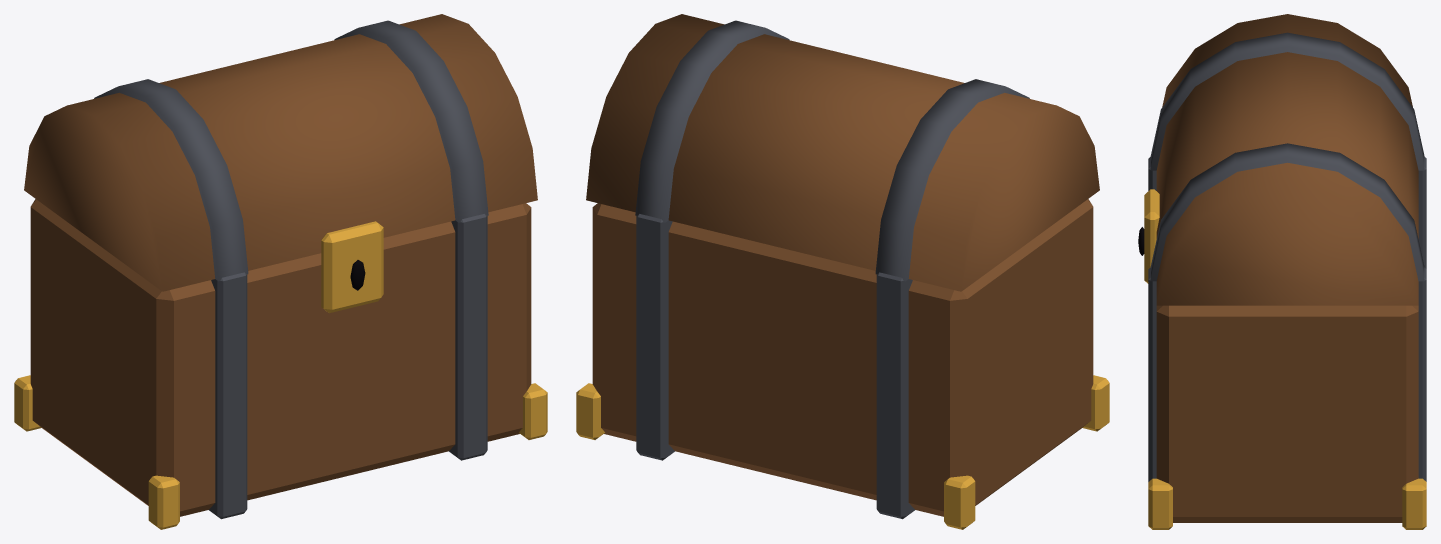
The model's file is bau.glb.
3 renders of one model, left to right at view 1: azimuth 30°, elevation 25°; view 2: azimuth 150°, elevation 25°; view 3: azimuth 270°, elevation 25°, orthographic. The views are drawn at different scales.
Visible parts, largest first — view 1: bau; view 2: bau; view 3: bau.
Part boxes in pixels (bbox=[...]): bau: bbox=[14, 14, 547, 529]; bau: bbox=[576, 14, 1109, 529]; bau: bbox=[1138, 14, 1426, 529].
Bounding box in the file's own units: 1.04 × 0.945 × 0.705.
